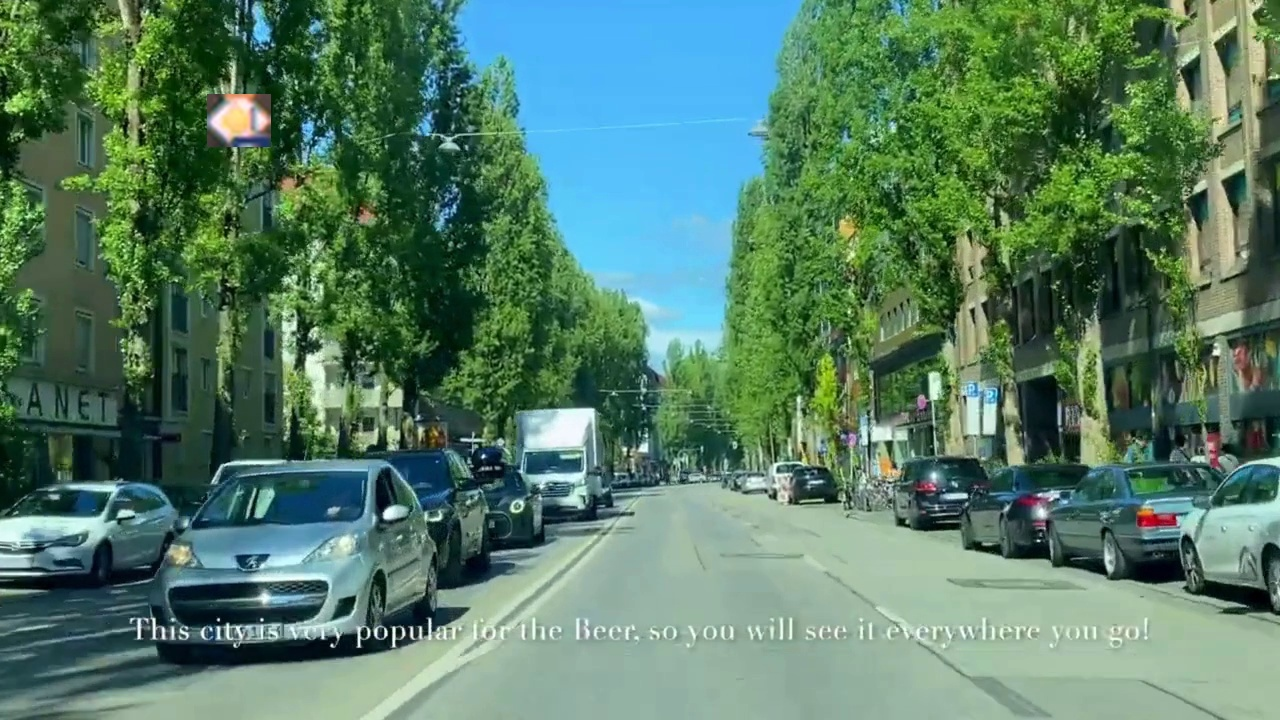Priority road: (207, 94, 271, 147)
